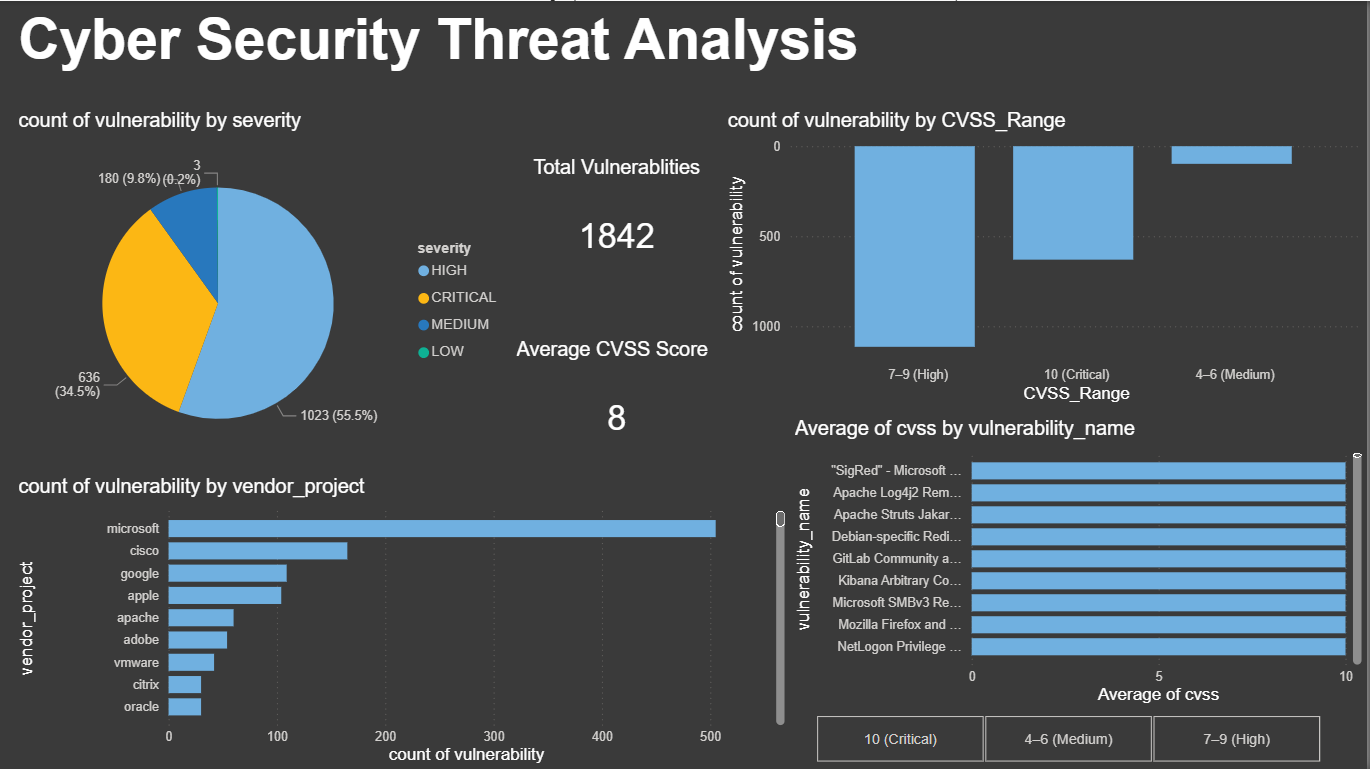

This screenshot's page, from the dashboard's own definition file:
{"tool":"powerbi","page":{"name":"Page 1","canvas":[1280,720],"ordinal":0},"visuals":[{"type":"textbox","box":[12.1,0,819,100.9],"z":0},{"type":"card","title":"Total Vulnerablities","fields":{"Values":["CountNonNull(1.vulnerability_name)"]},"box":[478.7,145.2,197.7,127.8],"z":1},{"type":"pieChart","fields":{"Category":["1.severity"],"Y":["1.Measure"]},"box":[12.1,100.9,466.6,342.9],"z":2},{"type":"columnChart","fields":{"Category":["1.CVSS_Range"],"Y":["1.count of vulnerability"]},"box":[676.4,100.9,603.8,279.7],"z":3},{"type":"card","title":"Average CVSS Score","fields":{"Values":["1.CVSS_Avg"]},"box":[478.7,316,197.7,127.8],"z":4},{"type":"barChart","fields":{"Category":["1.vendor_project"],"Y":["1.count of vulnerability"]},"box":[12.1,443.8,727.5,275.7],"z":6},{"type":"barChart","fields":{"Category":["1.vulnerability_name"],"Y":["Avg(1.cvss)"]},"box":[739.6,390,540.6,273],"z":7},{"type":"slicer","fields":{"Values":["1.CVSS_Range"]},"box":[739.6,663,520.4,56.5],"z":8}]}

Visuals, with their boxes in screenshot pixels (x1, y1, x2, y2), scaled from the page's 1280x720 canvas onto the 1370x769 screenshot:
textbox: Rect(13, 0, 890, 108)
"Total Vulnerablities" card: Rect(512, 155, 724, 292)
pieChart - 1.severity x 1.Measure: Rect(13, 108, 512, 474)
columnChart - 1.CVSS_Range x 1.count of vulnerability: Rect(724, 108, 1369, 407)
"Average CVSS Score" card: Rect(512, 338, 724, 474)
barChart - 1.vendor_project x 1.count of vulnerability: Rect(13, 474, 792, 768)
barChart - 1.vulnerability_name x Avg(1.cvss): Rect(792, 417, 1369, 708)
slicer - 1.CVSS_Range: Rect(792, 708, 1349, 768)
